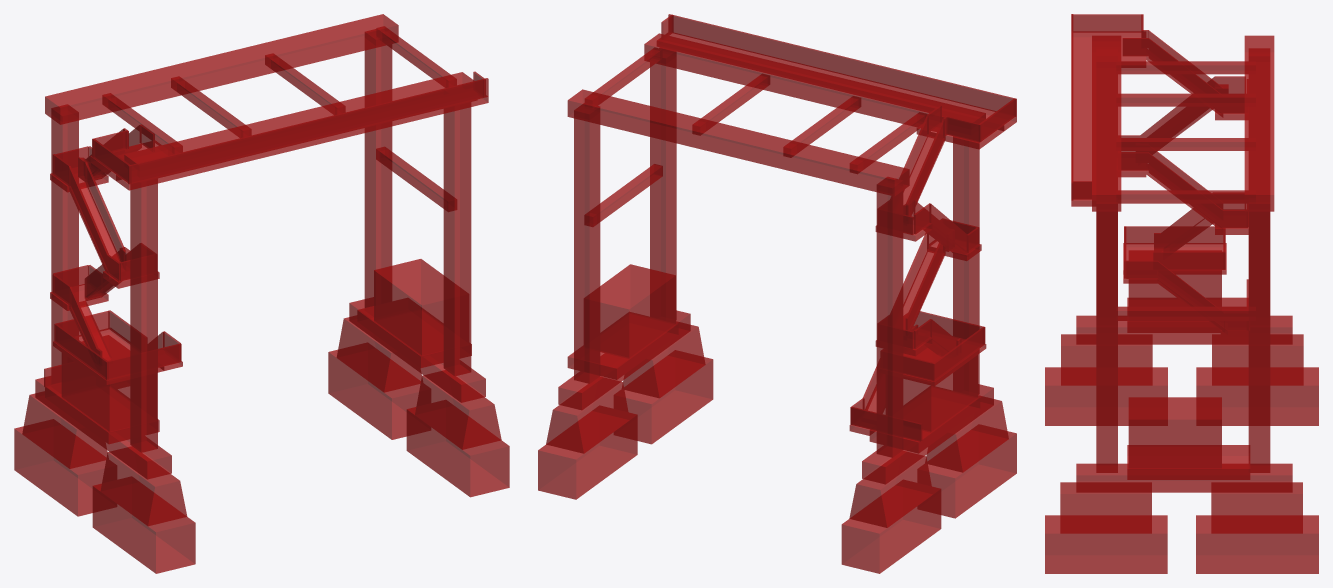
The model's file is SM_Veh_ContainerCrane_01_Collision.fbx.
The picture shows the model from 3 angles, left to right: view 1: azimuth 30°, elevation 25°; view 2: azimuth 150°, elevation 25°; view 3: azimuth 270°, elevation 25°; orthographic projection. The views are drawn at different scales.
Visible parts, largest first — view 1: SM_Veh_ContainerCrane_01_Collision; view 2: SM_Veh_ContainerCrane_01_Collision; view 3: SM_Veh_ContainerCrane_01_Collision.
Part boxes in pixels (x1,y1,x2,y2): SM_Veh_ContainerCrane_01_Collision: [14, 14, 509, 573]; SM_Veh_ContainerCrane_01_Collision: [538, 14, 1016, 573]; SM_Veh_ContainerCrane_01_Collision: [1045, 14, 1318, 573].
Size of the model in its own units: 2250 by 2318 by 1487.
